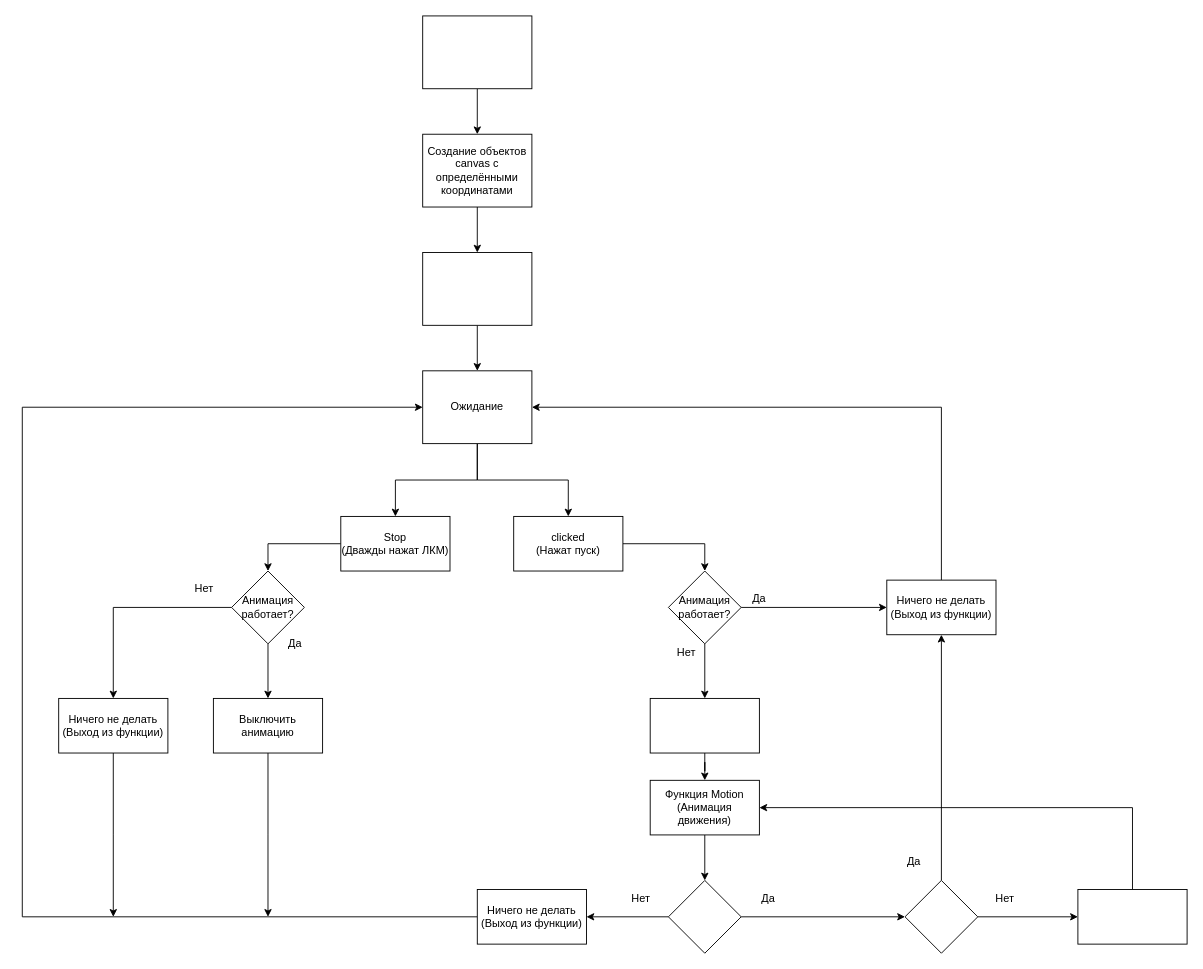
Image size: 1203x969. Some labels were removed from this diagram. The shapes that lost their labels are listed below. From the top down, each one's centre as x and y in pixels, then its label:
At pixel 477 52: "Задание начальных параметров: SIZE CELL_SZ".
At pixel 477 288: "Создание кнопки пуска и реализация команды остановки".
At pixel 704 725: "Включить анимацию".
At pixel 704 916: "Анимация должна работать?".
At pixel 941 916: "Лампа дошла до конца?".
At pixel 1132 916: "root.after(700, motion)".
